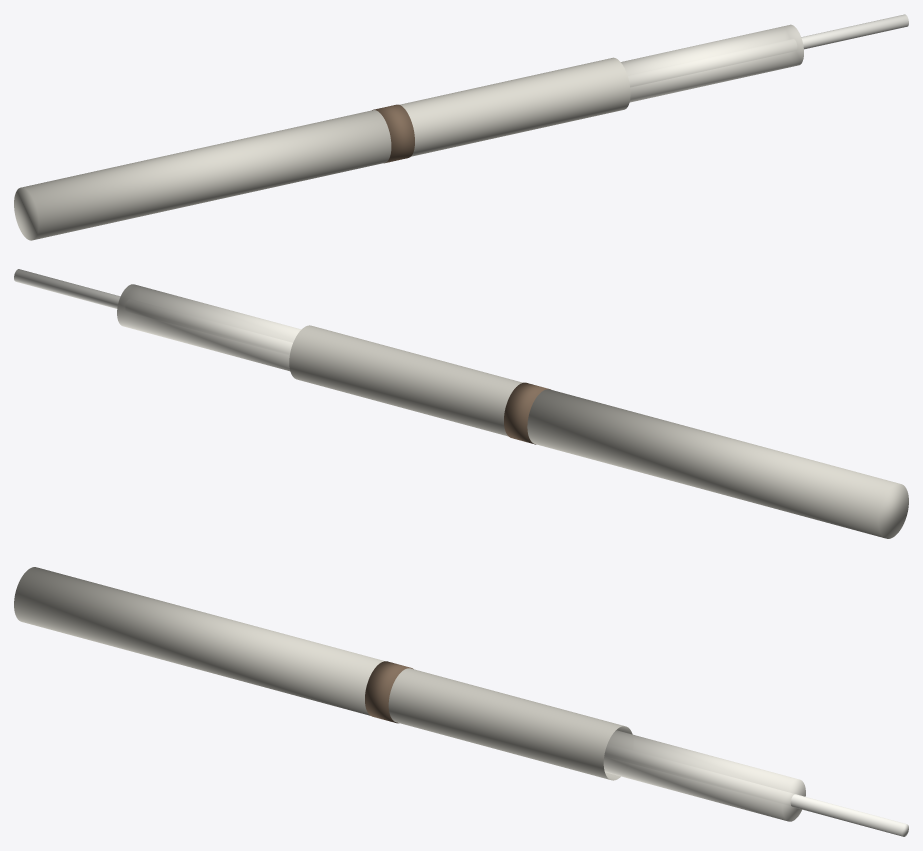
The picture shows the model from 3 angles, top to bottom: view 1: azimuth 30°, elevation 25°; view 2: azimuth 150°, elevation 25°; view 3: azimuth 330°, elevation 25°; orthographic projection. The views are drawn at different scales.
Parts seen in each view (by area): view 1: rear solid outer conductor tube, exposed solid outer conductor sleeve, ptfe dielectric core, solid center conductor continuous, outer conductor cut lip; view 2: rear solid outer conductor tube, exposed solid outer conductor sleeve, ptfe dielectric core, solid center conductor continuous, outer conductor cut lip; view 3: rear solid outer conductor tube, exposed solid outer conductor sleeve, ptfe dielectric core, solid center conductor continuous, outer conductor cut lip.
Part boxes in pixels (x1,y1,x2,y2): rear solid outer conductor tube: (14, 110, 391, 240); exposed solid outer conductor sleeve: (399, 57, 630, 156); ptfe dielectric core: (621, 24, 803, 102); solid center conductor continuous: (801, 14, 908, 49); outer conductor cut lip: (372, 104, 414, 163); rear solid outer conductor tube: (527, 389, 908, 538); exposed solid outer conductor sleeve: (289, 325, 522, 436); ptfe dielectric core: (117, 284, 301, 371); solid center conductor continuous: (14, 269, 120, 308); outer conductor cut lip: (504, 382, 550, 444); rear solid outer conductor tube: (14, 567, 384, 715); exposed solid outer conductor sleeve: (388, 668, 632, 780); ptfe dielectric core: (603, 730, 805, 821); solid center conductor continuous: (790, 794, 908, 836); outer conductor cut lip: (365, 661, 413, 723).
Bounding box in the file's own units: 5.99 × 0.3307 × 0.5166.
